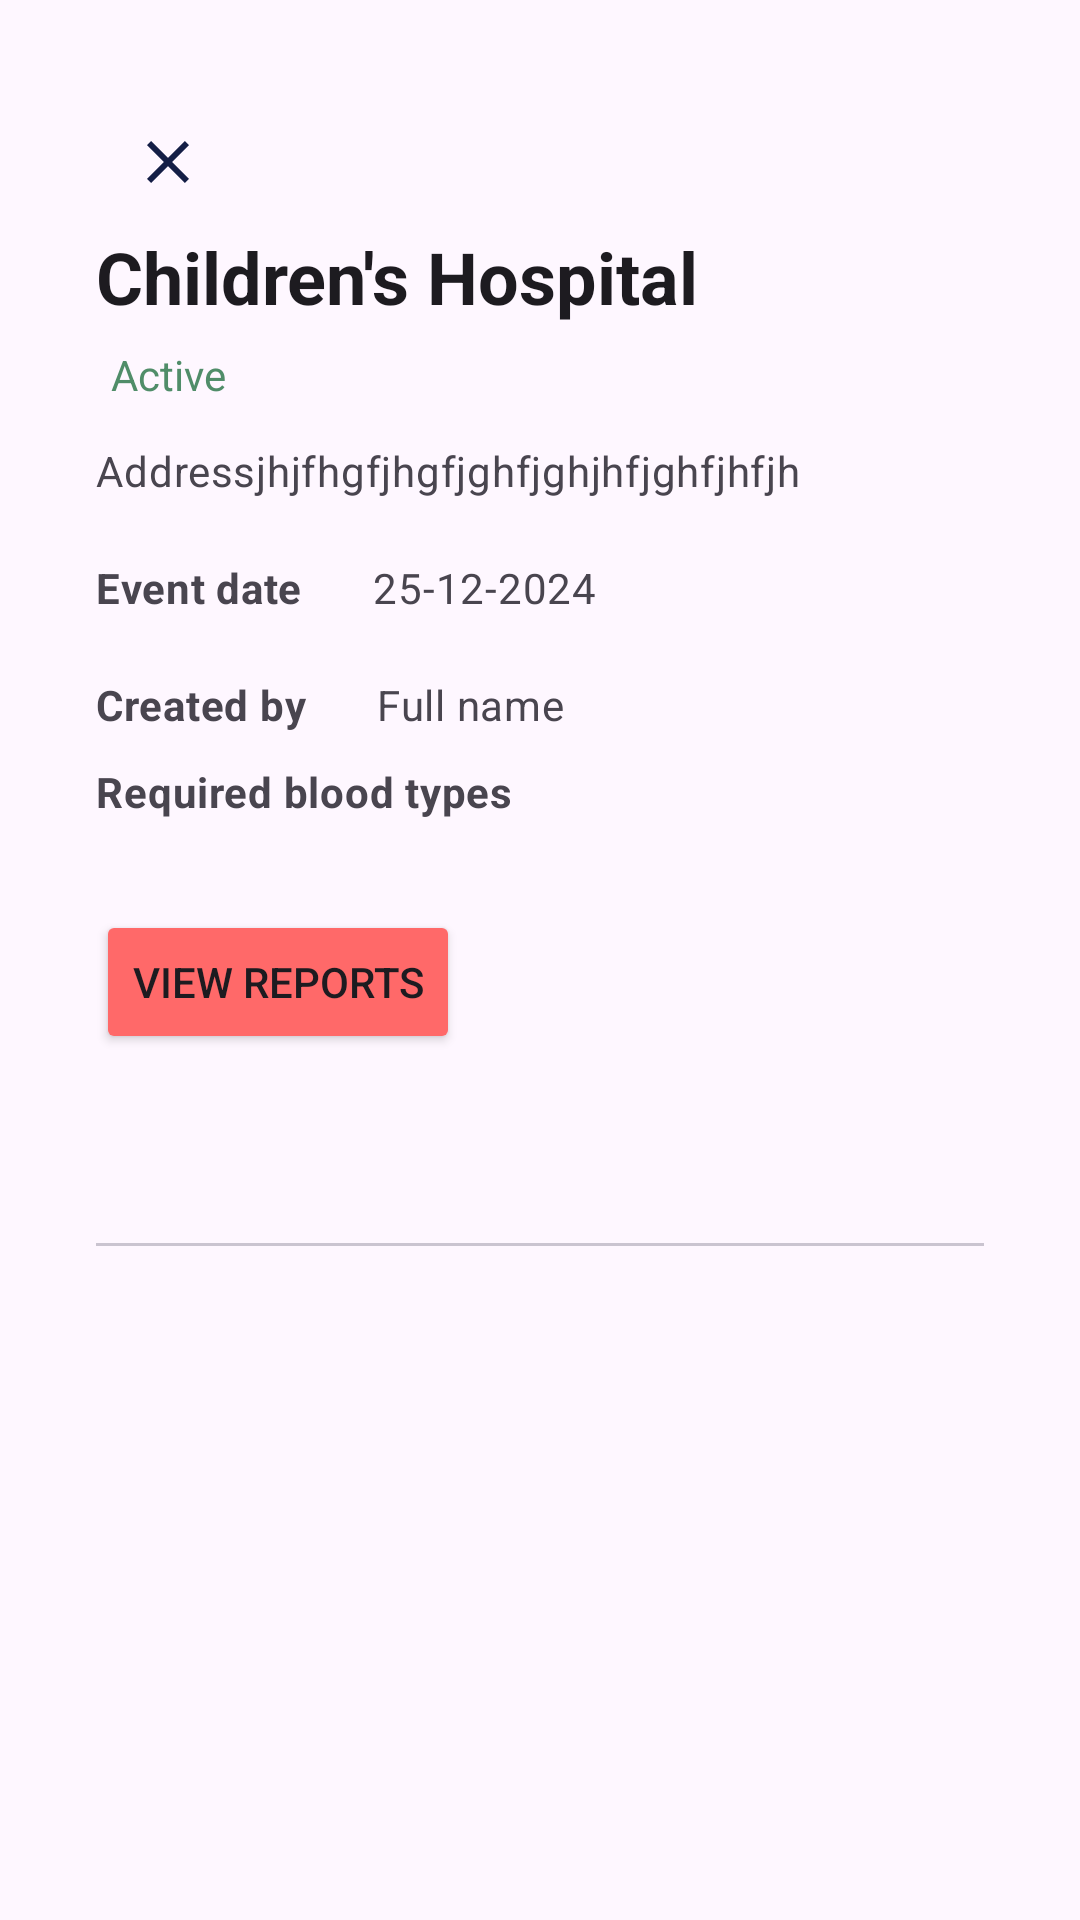

Screen size 1080w x 1920h. Icon name, then its box in pixels as (x1, y1, x2, y2):
Close: (147, 141, 189, 183)
